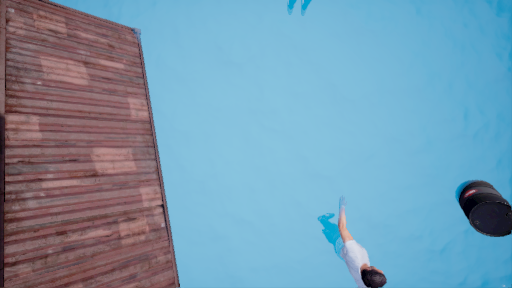person: (311, 199, 399, 288)
